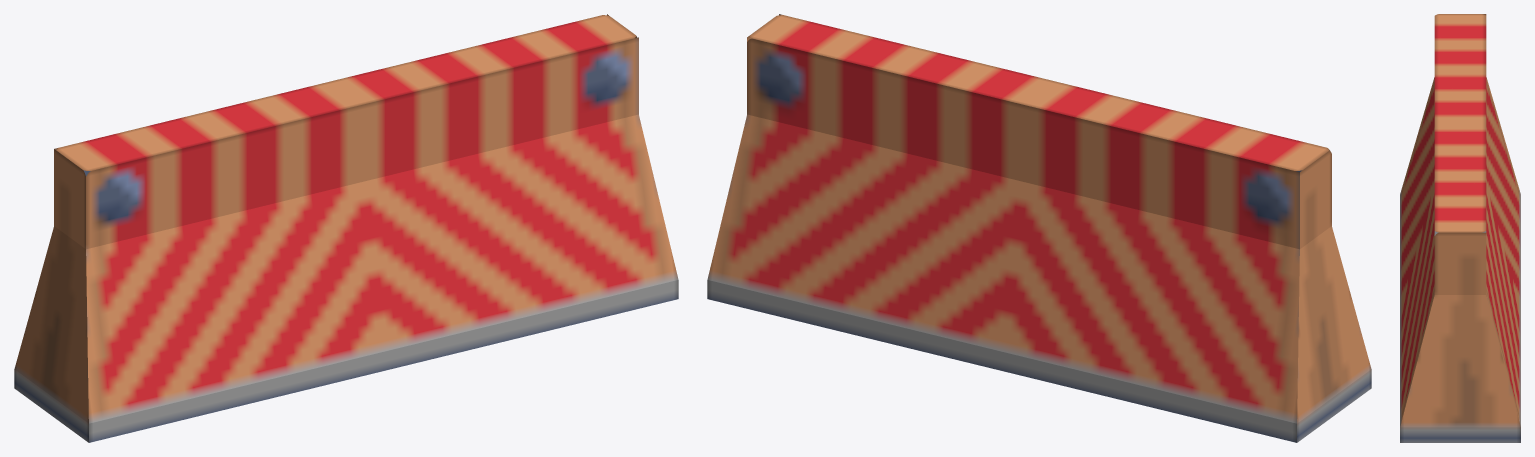
File: BangChangGiua.fbx
The picture shows the model from 3 angles, left to right: view 1: azimuth 30°, elevation 25°; view 2: azimuth 150°, elevation 25°; view 3: azimuth 270°, elevation 25°; orthographic projection. The views are drawn at different scales.
Visible parts, largest first — view 1: BangChanDuoi; view 2: BangChanDuoi; view 3: BangChanDuoi.
Part boxes in pixels (x1=…): BangChanDuoi: x1=14, y1=14, x2=678, y2=442; BangChanDuoi: x1=707, y1=14, x2=1371, y2=442; BangChanDuoi: x1=1400, y1=14, x2=1520, y2=442.
Bounding box in the file's own units: 200 × 81.25 × 43.75.
1 material, 1 textured.
